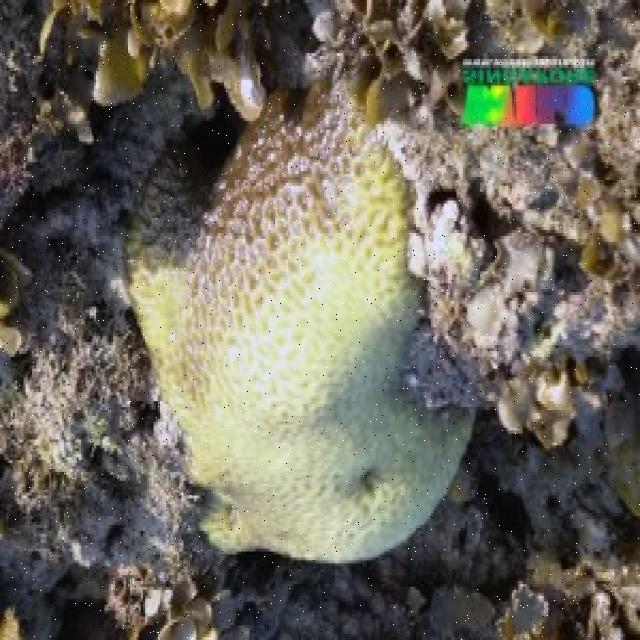Bleached: (209, 272, 424, 547), (441, 240, 640, 416), (64, 433, 183, 561), (387, 149, 488, 295)
Healthy: (38, 2, 273, 124), (329, 1, 471, 122), (1, 2, 80, 218), (572, 158, 640, 290), (484, 1, 578, 49), (1, 241, 37, 364)
